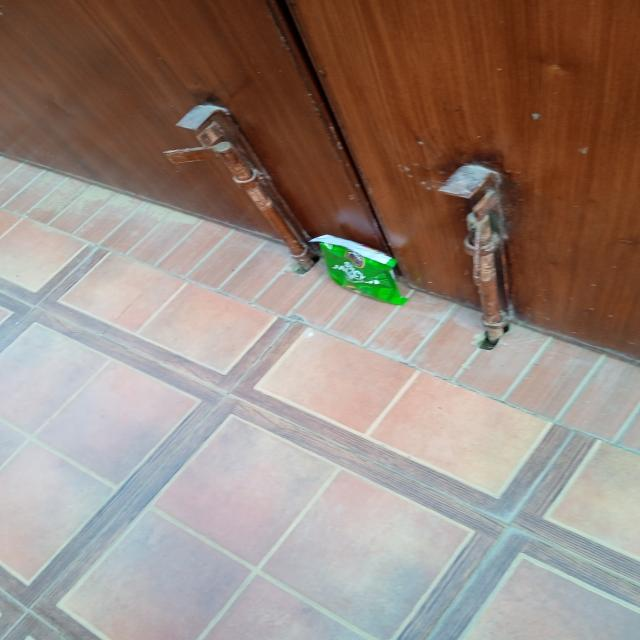Plastic: (314, 230, 402, 306)
